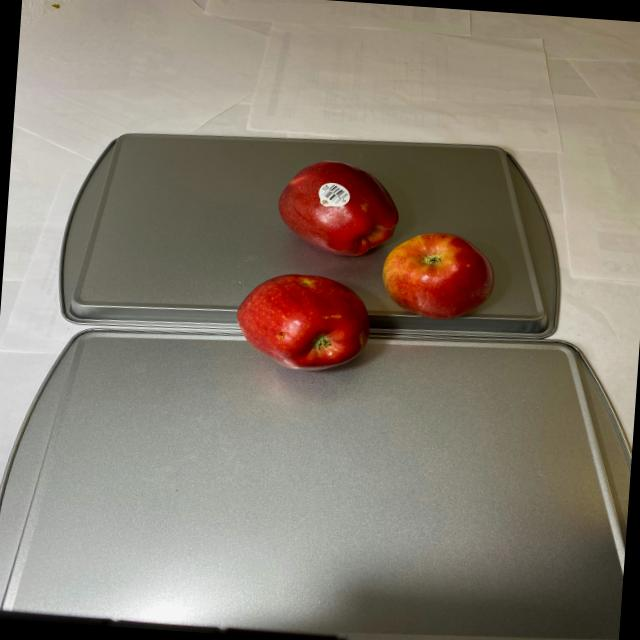apple: (233, 154, 502, 382)
